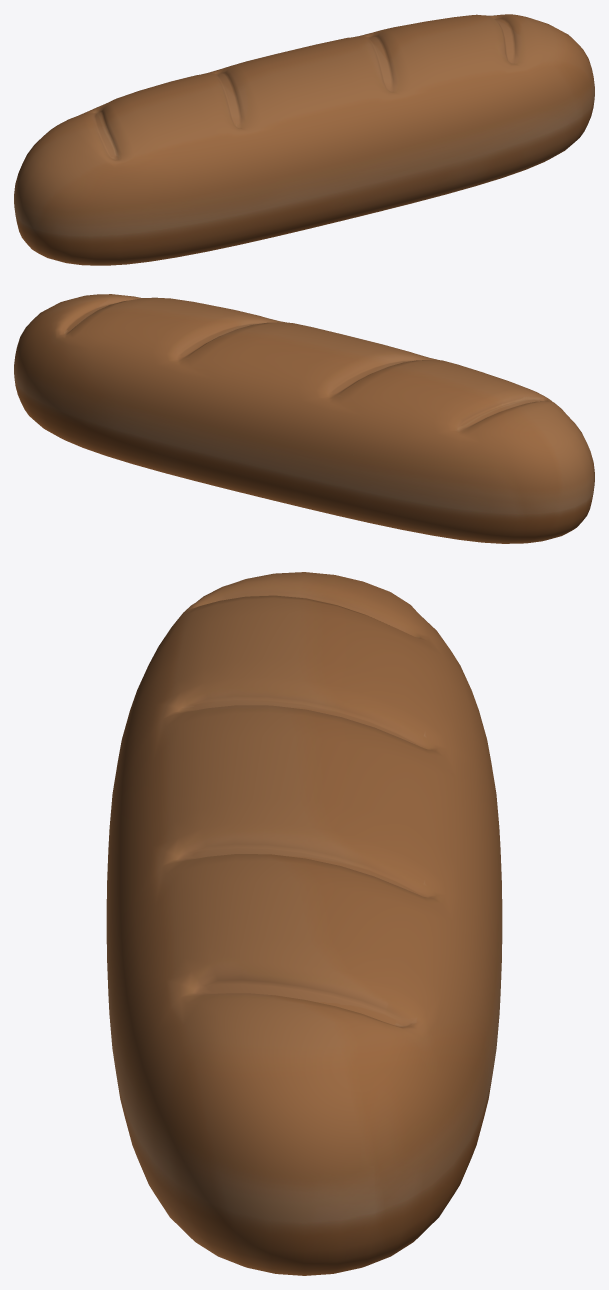
Rendered from BreadLoaf.fbx.
3 renders of one model, top to bottom at view 1: azimuth 30°, elevation 25°; view 2: azimuth 150°, elevation 25°; view 3: azimuth 270°, elevation 25°, orthographic. The views are drawn at different scales.
Visible parts, largest first — view 1: BreadLoaf; view 2: BreadLoaf; view 3: BreadLoaf.
Boxes of the visible parts, x1,y1,x2,y2 form: BreadLoaf: (14,14,594,265); BreadLoaf: (14,294,594,543); BreadLoaf: (106,572,502,1275).
Bounding box in the file's own units: 808 × 189 × 245.
